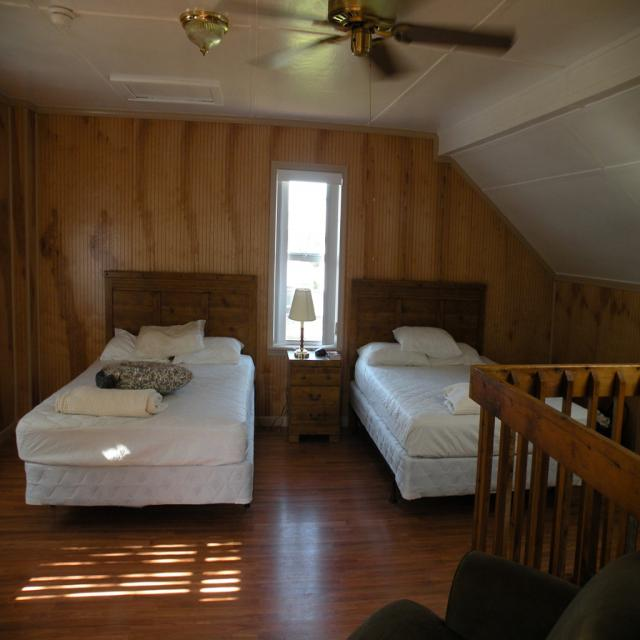Bulb: (216, 0, 516, 81)
